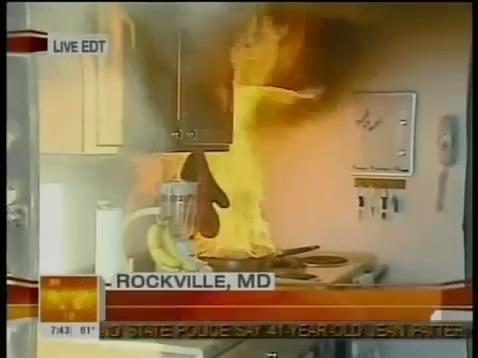fire: (186, 80, 301, 262)
